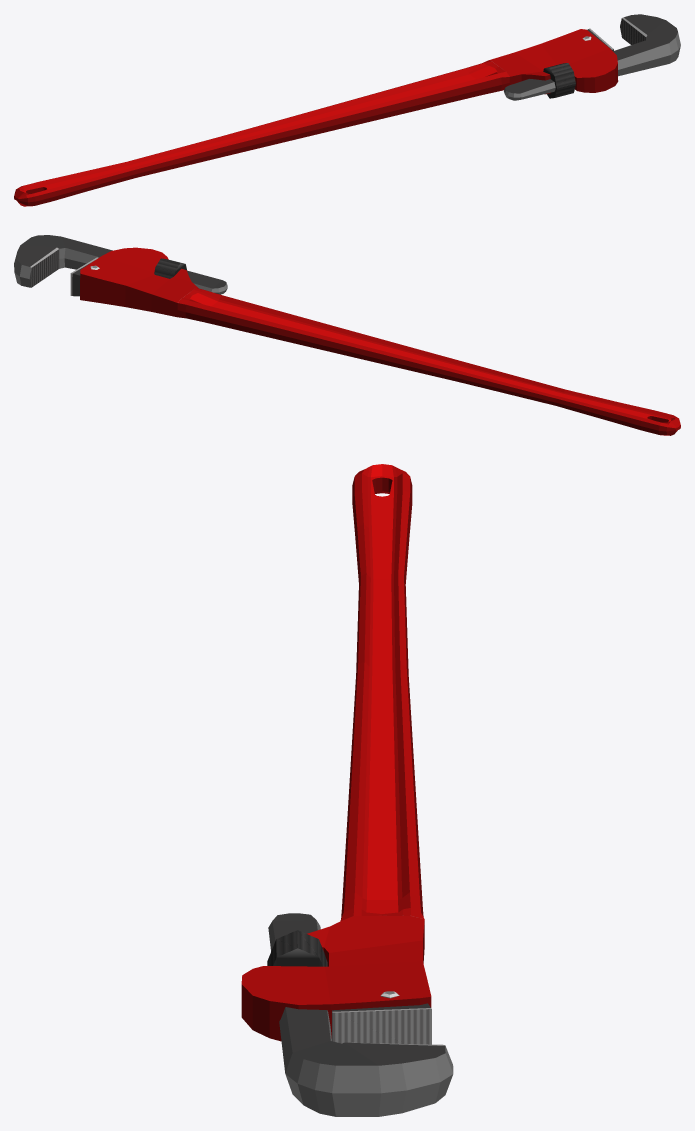
Rendered from WorldItem_IndustrialPipeWrench.fbx.
3 views of the same model, one above another, from view 1: azimuth 30°, elevation 25°; view 2: azimuth 150°, elevation 25°; view 3: azimuth 270°, elevation 25° (orthographic). The views are drawn at different scales.
Visible parts, largest first — view 1: ZomboidIndustrialPipeWrench; view 2: ZomboidIndustrialPipeWrench; view 3: ZomboidIndustrialPipeWrench.
Boxes of the visible parts, x1,y1,x2,y2 form: ZomboidIndustrialPipeWrench: (14, 14, 680, 206); ZomboidIndustrialPipeWrench: (14, 235, 680, 435); ZomboidIndustrialPipeWrench: (241, 464, 453, 1116).
Bounding box in the file's own units: 0.7795 × 0.0357 × 0.1098.
